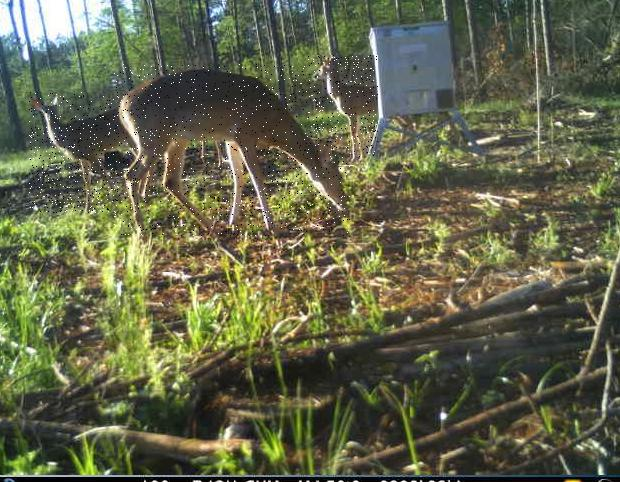Deer: (113, 64, 350, 236), (28, 93, 138, 214), (307, 56, 377, 160)
